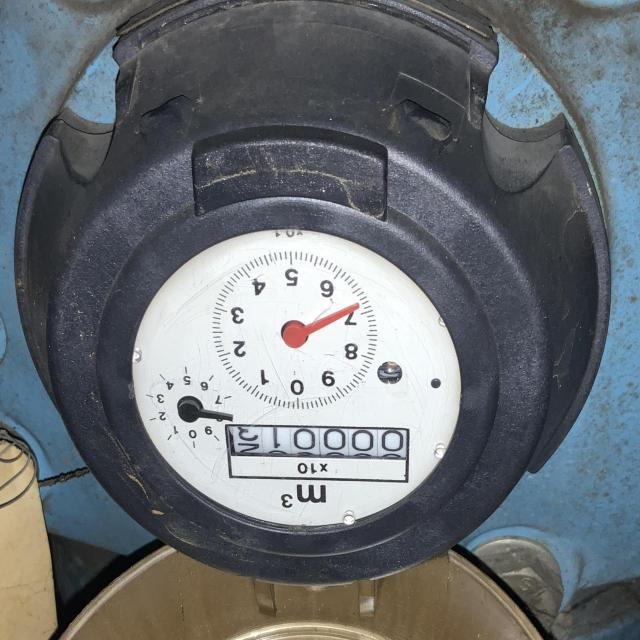gaz_meter: (133, 228, 463, 528)
indication: (226, 424, 409, 460)
